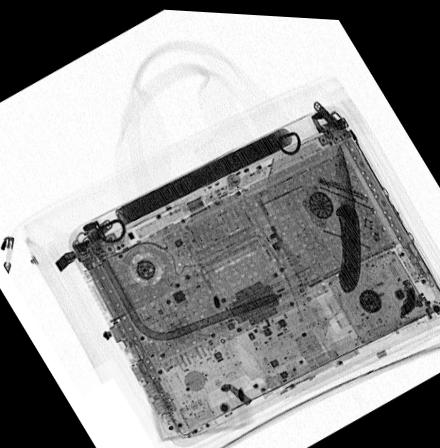Knife: (331, 140, 362, 290)
